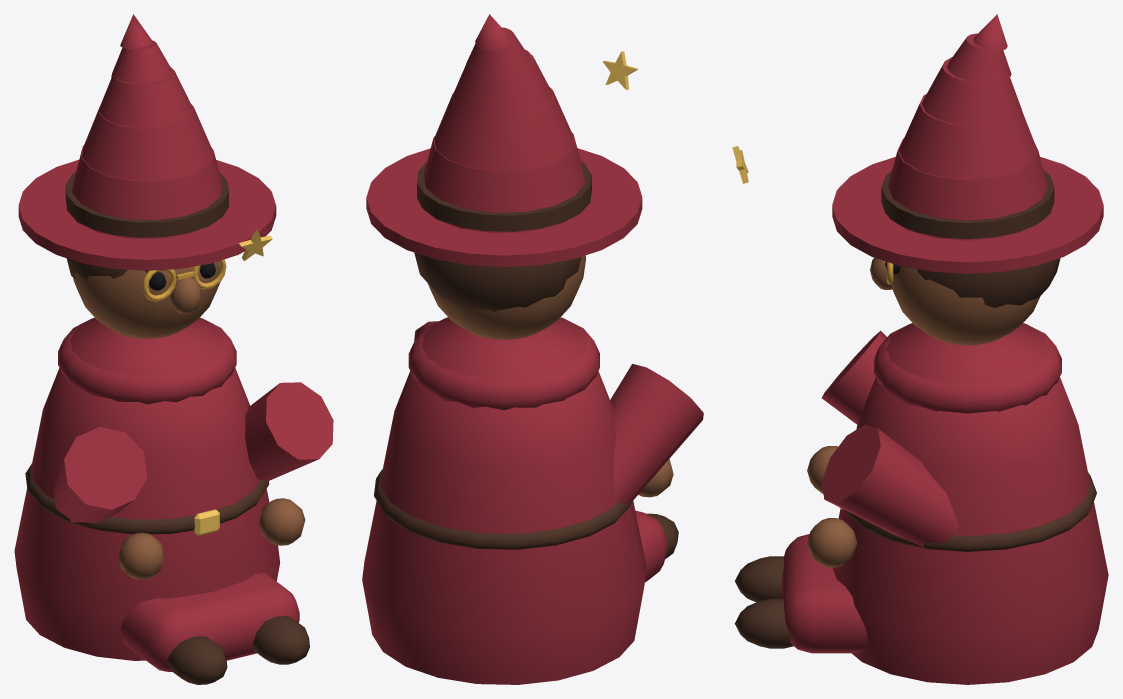
The model's file is magic_wizard_crimson.glb.
3 renders of one model, left to right at view 1: azimuth 30°, elevation 25°; view 2: azimuth 150°, elevation 25°; view 3: azimuth 270°, elevation 25°, orthographic. The views are drawn at different scales.
Parts seen in each view (by area): view 1: magic_wizard_crimson; view 2: magic_wizard_crimson; view 3: magic_wizard_crimson.
Boxes of the visible parts, left/top/right/bottom form: magic_wizard_crimson: left=14, top=14, right=333, bottom=684; magic_wizard_crimson: left=362, top=14, right=703, bottom=684; magic_wizard_crimson: left=732, top=14, right=1108, bottom=684.
Bounding box in the file's own units: 0.6432 × 1.35 × 0.7488.
